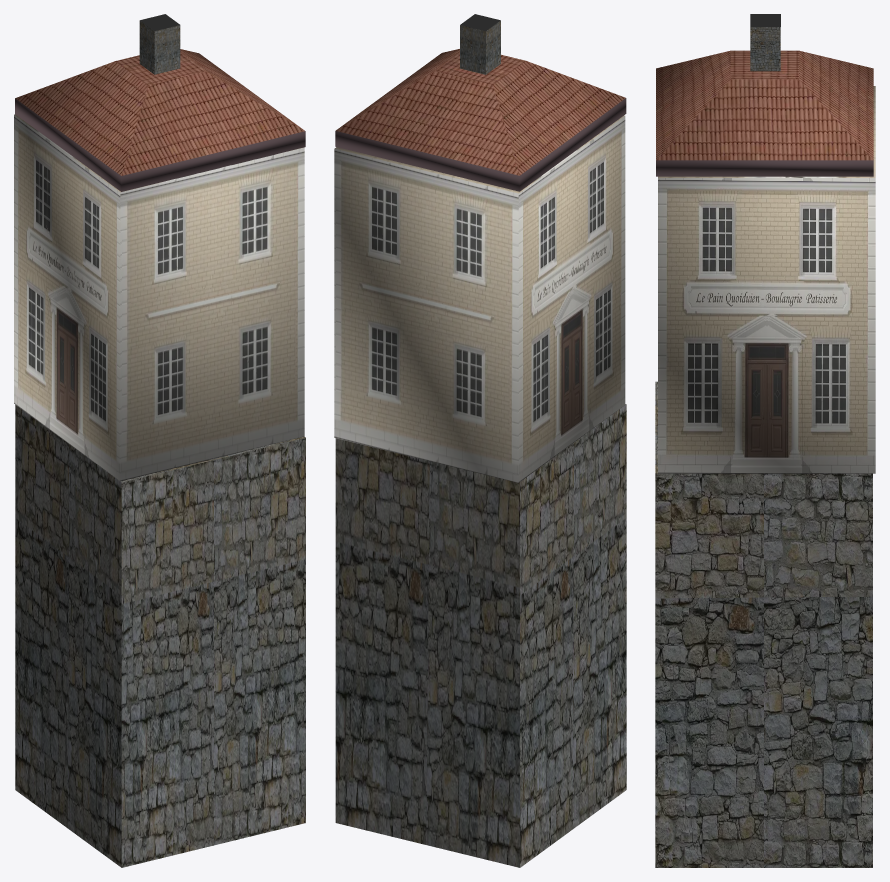
Rendered from bakery.glb.
3 renders of one model, left to right at view 1: azimuth 30°, elevation 25°; view 2: azimuth 150°, elevation 25°; view 3: azimuth 270°, elevation 25°, orthographic. The views are drawn at different scales.
Parts seen in each view (by area): view 1: Cube.002, Cube, Cube.001; view 2: Cube.002, Cube, Cube.001; view 3: Cube.002, Cube, Cube.001.
Boxes of the visible parts, x1,y1,x2,y2 form: Cube.002: (15, 21, 305, 867); Cube: (14, 114, 304, 481); Cube.001: (15, 49, 305, 191); Cube.002: (335, 20, 626, 867); Cube: (334, 115, 625, 482); Cube.001: (335, 49, 626, 191); Cube.002: (655, 27, 872, 867); Cube: (658, 86, 875, 473); Cube.001: (656, 50, 873, 176).
Bounding box in the file's own units: 1 × 4.07 × 1.01.
Materials: 6 (4 with a texture image).
